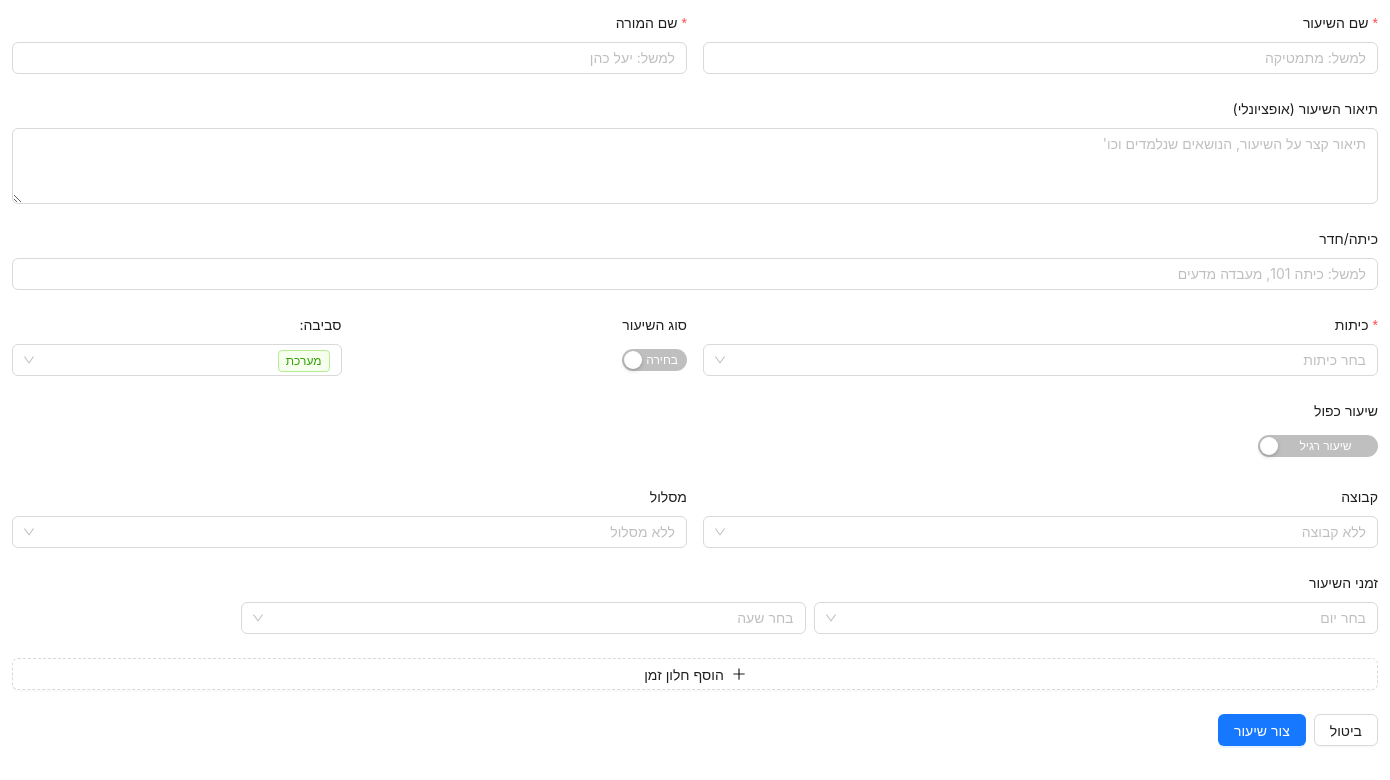
Scenario: ClassForm time slot picker › filters slots by name when searching
The width and height of the screenshot is (1390, 780).
Press the mouse on the dropdown next to "בחר שעה" at [532, 618], box [271,603,794,633]
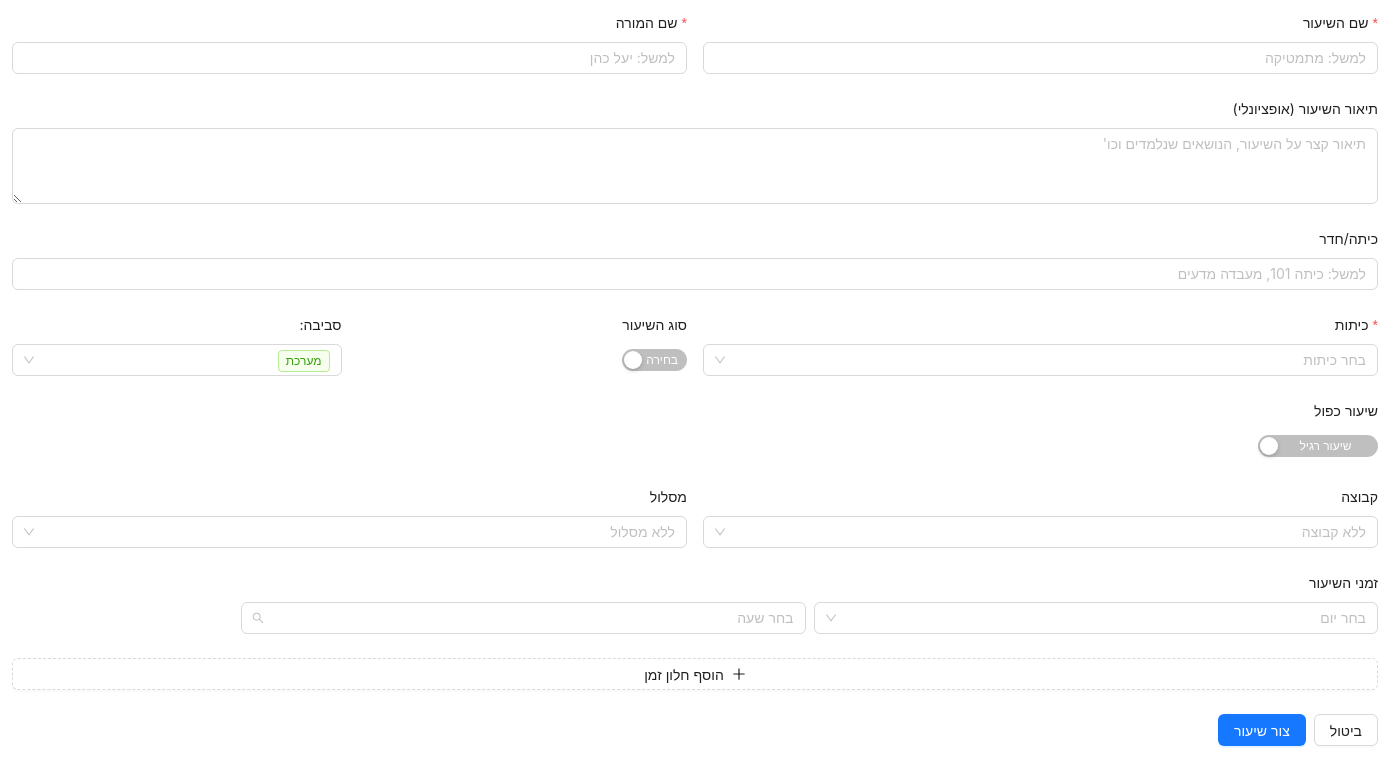
Type "מפגש" into the dropdown next to "בחר שעה".
click(532, 618); type("מפגש")  # box [271,603,794,633]
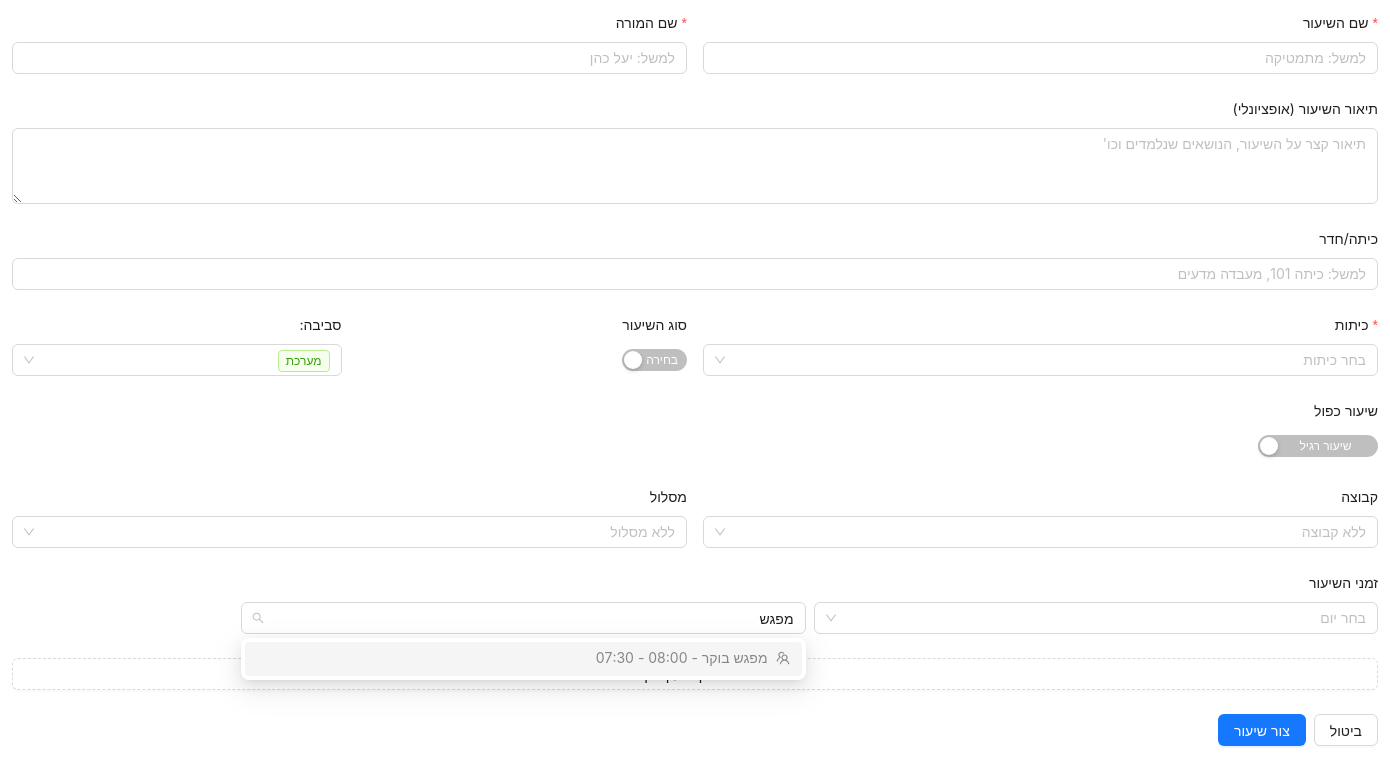
Expected: the text "מפגש בוקר - 08:00 - 07:30" is shown, [596,647,790,669]
Expected: the text "שיעור ראשון" is gone
